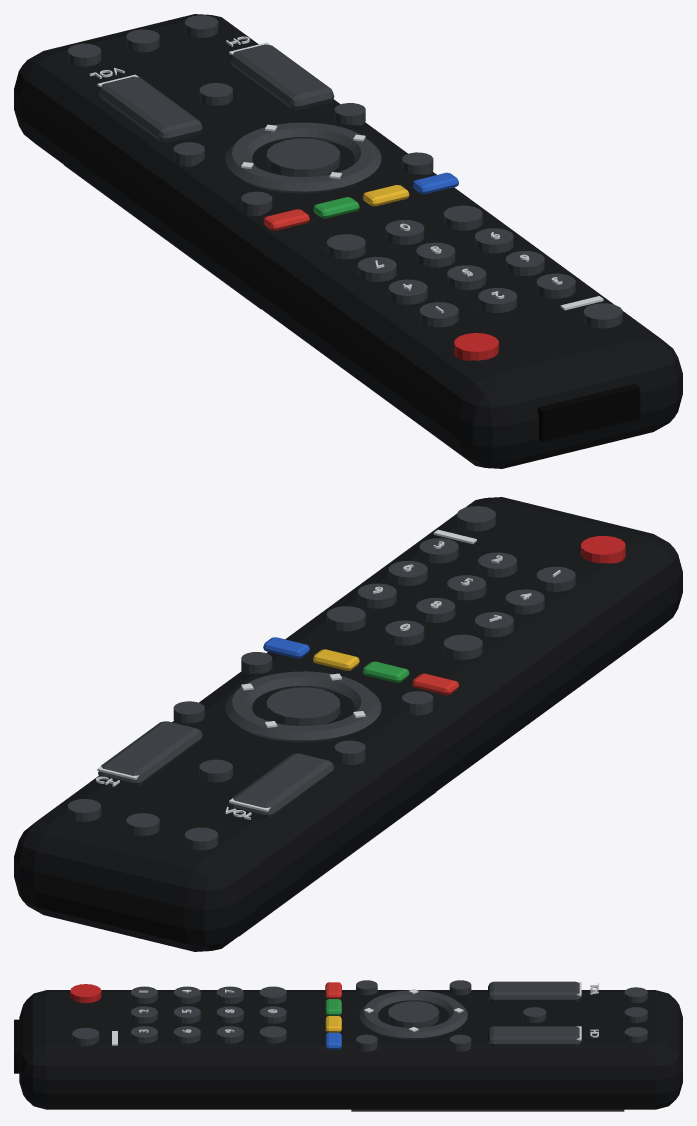
File: riwi-control.glb
The picture shows the model from 3 angles, top to bottom: view 1: azimuth 30°, elevation 25°; view 2: azimuth 150°, elevation 25°; view 3: azimuth 270°, elevation 25°; orthographic projection. The views are drawn at different scales.
Parts seen in each view (by area): view 1: Riwi_Control_Control_Cuerpo, Riwi_Control_Control_Botones, Riwi_Control_Control_Infrarrojo, Riwi_Control_Control_Rotulos, Riwi_Control_Control_Power, Riwi_Control_Control_Rojo, Riwi_Control_Control_Azul, Riwi_Control_Control_Amarillo, Riwi_Control_Control_Verde; view 2: Riwi_Control_Control_Cuerpo, Riwi_Control_Control_Botones, Riwi_Control_Control_Rotulos, Riwi_Control_Control_Power, Riwi_Control_Control_Azul, Riwi_Control_Control_Rojo, Riwi_Control_Control_Amarillo, Riwi_Control_Control_Verde; view 3: Riwi_Control_Control_Cuerpo, Riwi_Control_Control_Botones, Riwi_Control_Control_Rotulos, Riwi_Control_Control_Power, Riwi_Control_Control_Infrarrojo, Riwi_Control_Control_Azul, Riwi_Control_Control_Verde, Riwi_Control_Control_Amarillo, Riwi_Control_Control_Rojo.
Boxes of the visible parts, box(x1,y1,x2,y2) form: Riwi_Control_Control_Cuerpo: box(14, 14, 682, 468); Riwi_Control_Control_Botones: box(64, 15, 622, 328); Riwi_Control_Control_Infrarrojo: box(537, 384, 640, 441); Riwi_Control_Control_Rotulos: box(89, 36, 603, 313); Riwi_Control_Control_Power: box(454, 333, 498, 360); Riwi_Control_Control_Rojo: box(263, 209, 309, 230); Riwi_Control_Control_Azul: box(412, 172, 458, 194); Riwi_Control_Control_Amarillo: box(362, 185, 409, 206); Riwi_Control_Control_Verde: box(313, 197, 359, 218); Riwi_Control_Control_Cuerpo: box(14, 497, 682, 951); Riwi_Control_Control_Botones: box(67, 506, 575, 936); Riwi_Control_Control_Rotulos: box(96, 529, 560, 819); Riwi_Control_Control_Power: box(581, 536, 625, 563); Riwi_Control_Control_Azul: box(263, 637, 309, 658); Riwi_Control_Control_Rojo: box(412, 673, 458, 695); Riwi_Control_Control_Amarillo: box(313, 649, 359, 670); Riwi_Control_Control_Verde: box(362, 661, 409, 682); Riwi_Control_Control_Cuerpo: box(19, 990, 682, 1109); Riwi_Control_Control_Botones: box(72, 980, 647, 1111); Riwi_Control_Control_Rotulos: box(112, 982, 598, 1045); Riwi_Control_Control_Power: box(70, 984, 101, 1003); Riwi_Control_Control_Infrarrojo: box(14, 1019, 21, 1073); Riwi_Control_Control_Azul: box(325, 1032, 341, 1049); Riwi_Control_Control_Verde: box(325, 999, 341, 1015); Riwi_Control_Control_Amarillo: box(325, 1016, 341, 1032); Riwi_Control_Control_Rojo: box(325, 982, 341, 998).
Bounding box in the file's own units: 0.045 × 0.0206 × 0.1714.
